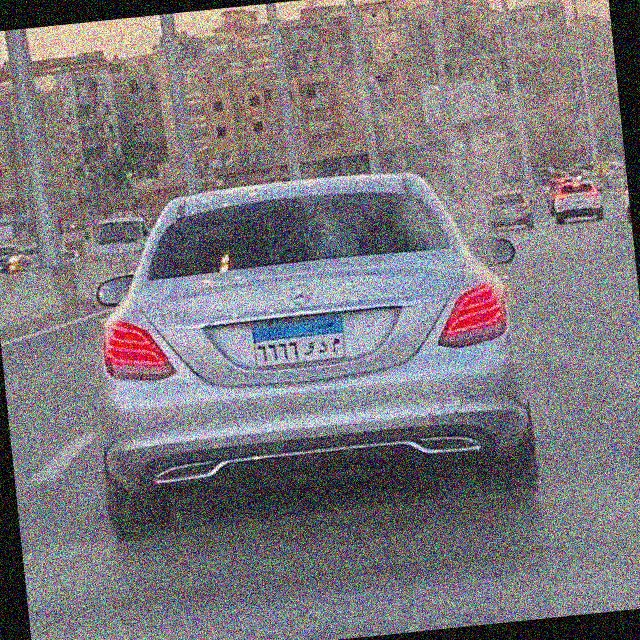License Plate: (251, 312, 350, 371)
